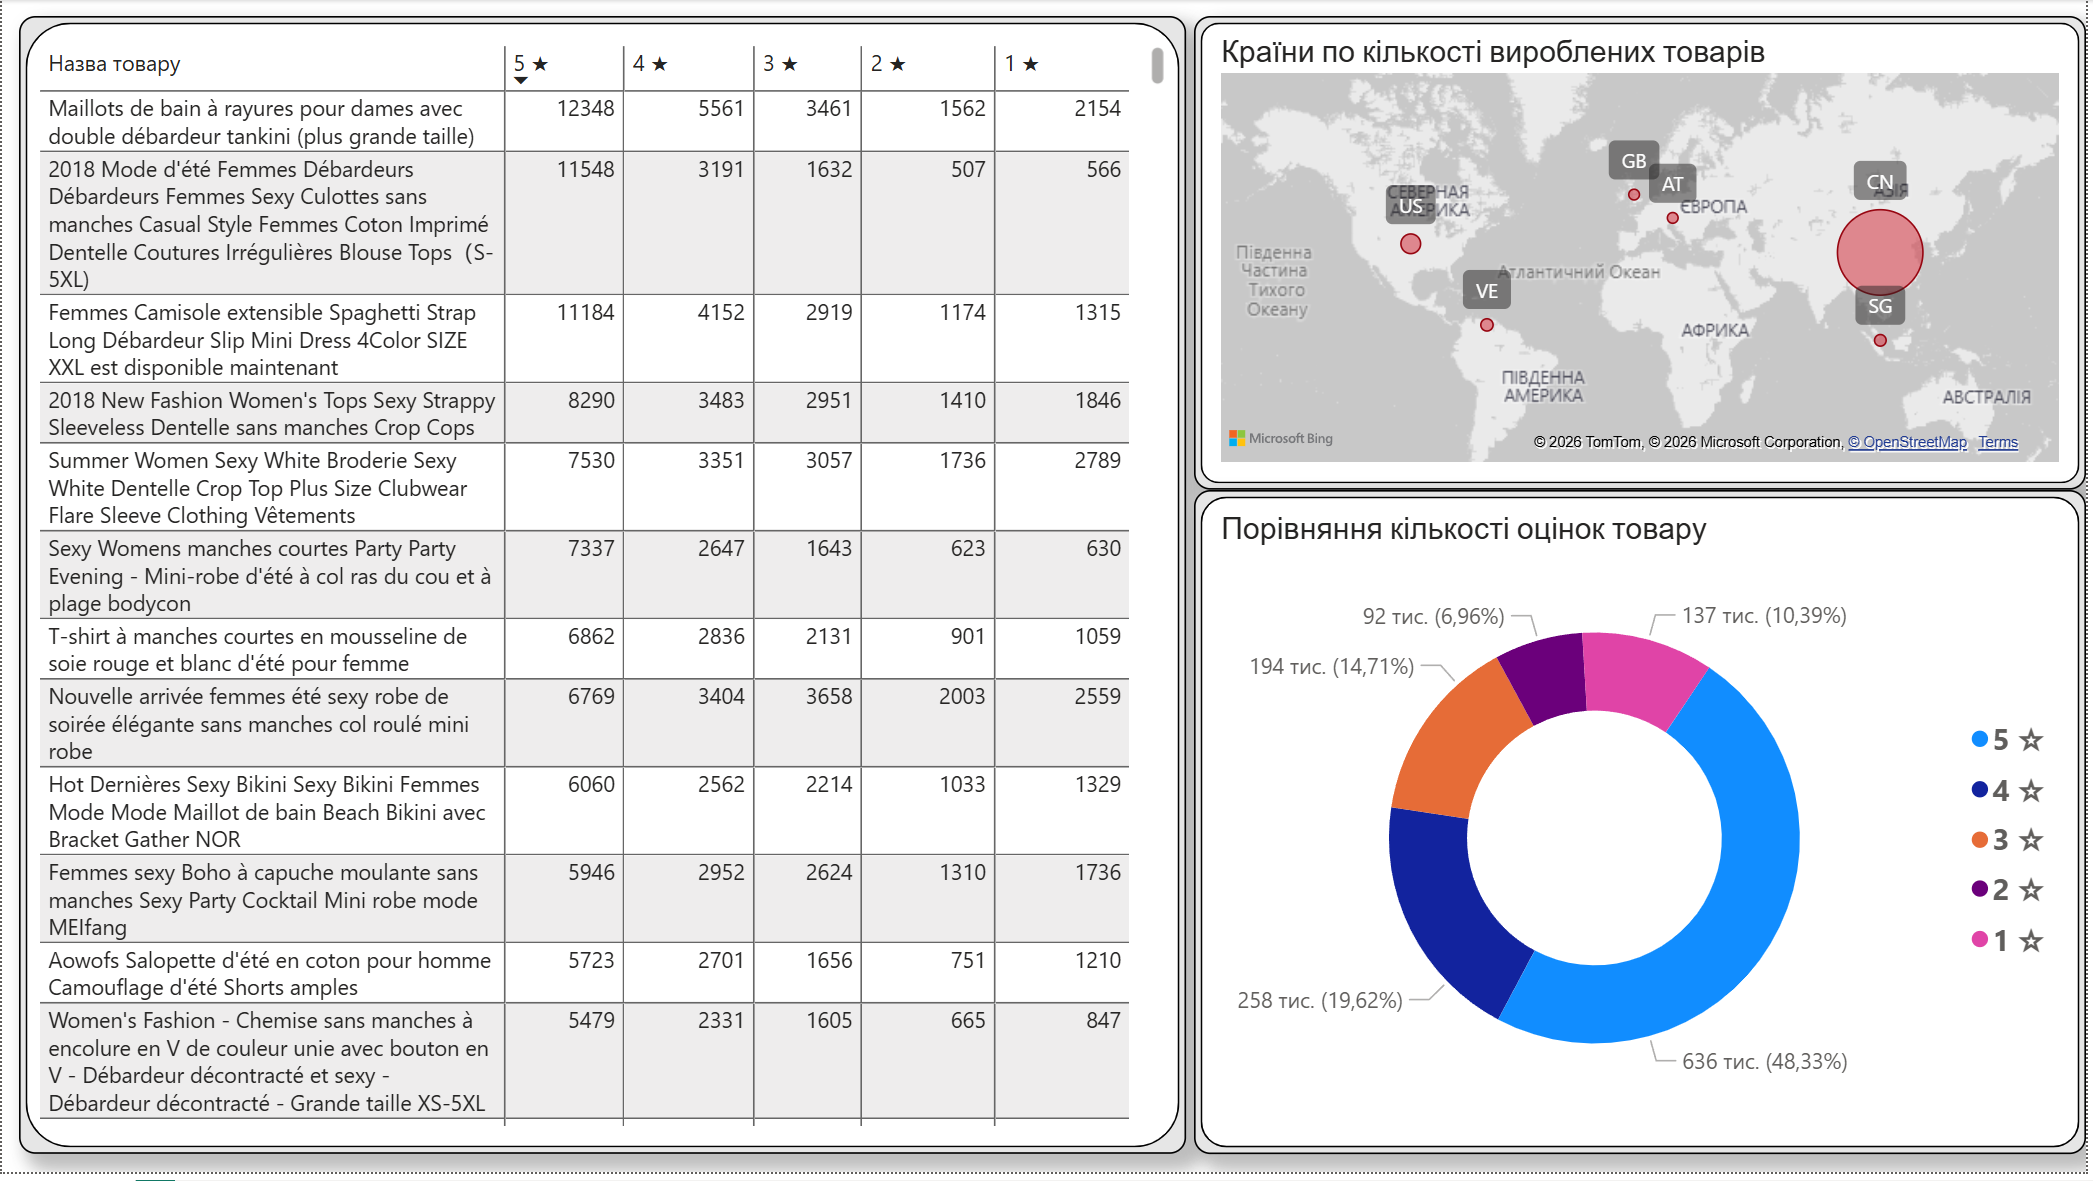

This screenshot's page, from the dashboard's own definition file:
{"tool":"powerbi","page":{"name":"Деталі","canvas":[1280,720],"ordinal":1},"visuals":[{"type":"shape","box":[10.4,9.8,716.9,699.1],"z":0},{"type":"shape","box":[732.3,9.8,548,291.2],"z":1000},{"type":"shape","box":[732.3,301,548,407.9],"z":2000},{"type":"pivotTable","fields":{"Rows":["Main_Table.title"],"Values":["Sum(Product_Details_Table.rating_five_count)","Sum(Product_Details_Table.rating_four_count)","Sum(Product_Details_Table.rating_three_count)","Sum(Product_Details_Table.rating_two_count)","Sum(Product_Details_Table.rating_one_count)"]},"box":[18.4,23.3,701,673.3],"z":3000},{"type":"map","title":"Країни по кількості вироблених товарів","fields":{"Category":["Main_Table.origin_country"],"Size":["CountNonNull(Product_Details_Table.units_sold)"]},"box":[744,20.9,524.6,267.8],"z":4000},{"type":"donutChart","title":"Порівняння кількості оцінок товару","fields":{"Y":["Sum(Product_Details_Table.rating_five_count)","Sum(Product_Details_Table.rating_four_count)","Sum(Product_Details_Table.rating_three_count)","Sum(Product_Details_Table.rating_two_count)","Sum(Product_Details_Table.rating_one_count)"]},"box":[744,313.9,524.6,382.7],"z":5000}]}

Visuals, with their boxes in screenshot pixels (x1, y1, x2, y2), scaled from the page's 1280x720 canvas onto the 2093x1181 screenshot:
shape: locate(17, 16, 1189, 1163)
shape: locate(1197, 16, 2092, 494)
shape: locate(1197, 494, 2092, 1163)
pivotTable - Main_Table.title x Sum(Product_Details_Table.rating_five_count): locate(30, 38, 1176, 1143)
"Країни по кількості вироблених товарів" map: locate(1217, 34, 2074, 474)
"Порівняння кількості оцінок товару" donutChart: locate(1217, 515, 2074, 1143)
